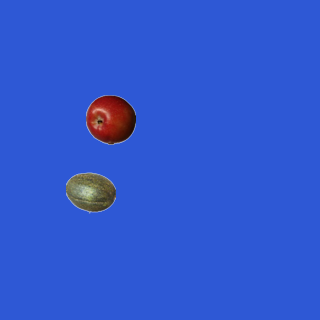Apple Braeburn: (85, 94, 135, 144)
Melon Piel de Sapo: (65, 167, 115, 217)
